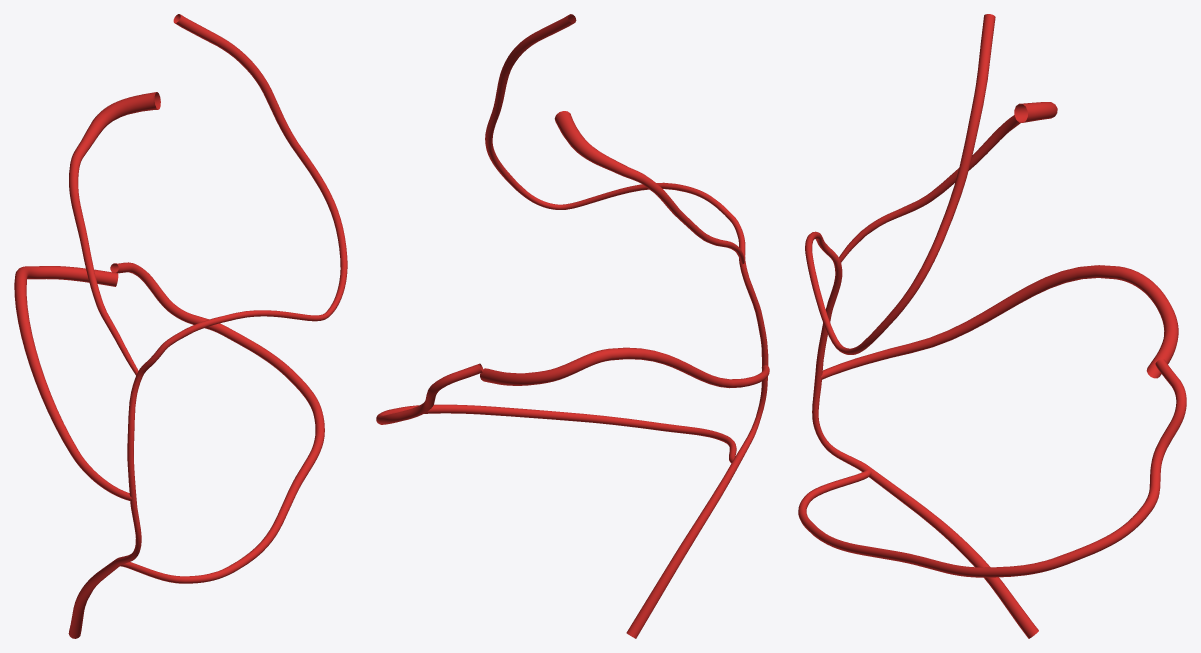
Rendered from circulatorio-genicular-veins-r.glb.
3 views of the same model, side by side, from view 1: azimuth 30°, elevation 25°; view 2: azimuth 150°, elevation 25°; view 3: azimuth 270°, elevation 25° (orthographic). The views are drawn at different scales.
Parts seen in each view (by area): view 1: Genicular veins.r; view 2: Genicular veins.r; view 3: Genicular veins.r.
Part boxes in pixels (<box>): Genicular veins.r: <box>14,14,347,638</box>; Genicular veins.r: <box>376,14,769,638</box>; Genicular veins.r: <box>798,14,1186,638</box>.
Size of the model in its own units: 0.0847 by 0.1647 by 0.0866.
